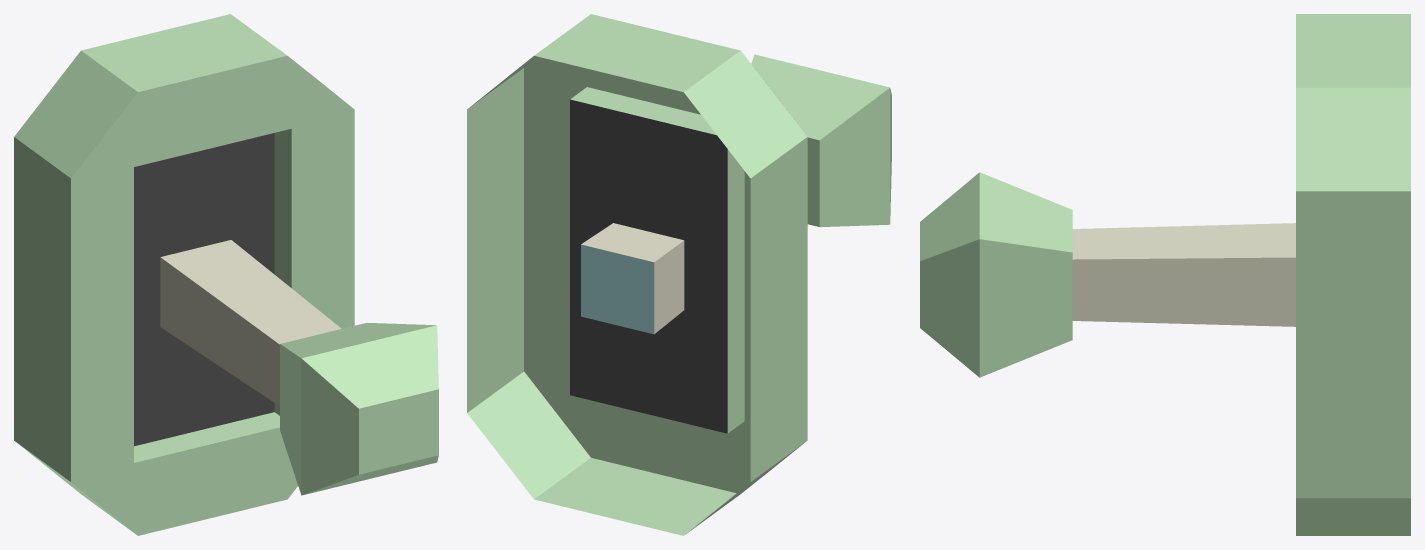
File: Lever.fbx
3 views of the same model, side by side, from view 1: azimuth 30°, elevation 25°; view 2: azimuth 150°, elevation 25°; view 3: azimuth 270°, elevation 25° (orthographic).
Parts seen in each view (by area): view 1: housing, handle; view 2: housing, handle; view 3: housing, handle.
Part boxes in pixels (box(x1,y1,x2,y2)): housing: box(14, 14, 354, 535); handle: box(160, 240, 438, 495); housing: box(467, 14, 807, 535); handle: box(581, 54, 891, 334); housing: box(1296, 14, 1410, 535); handle: box(920, 172, 1295, 377).
Bounding box in the file's own units: 0.2553 × 0.3819 × 0.3791.
